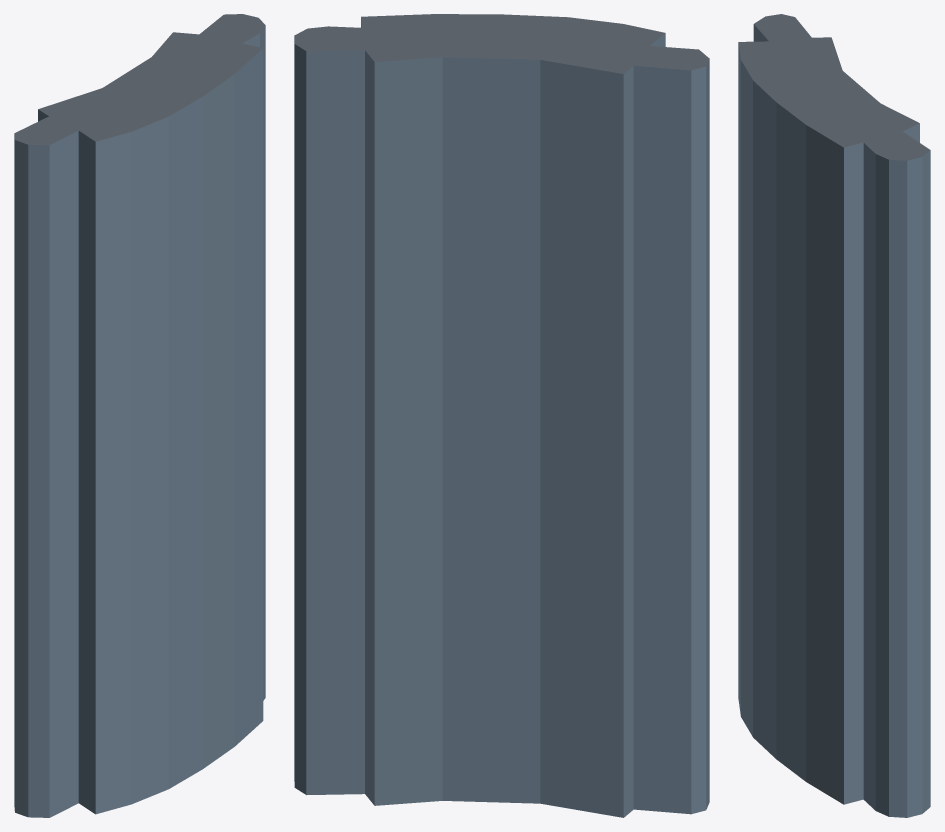
3 views of the same model, side by side, from view 1: azimuth 30°, elevation 25°; view 2: azimuth 150°, elevation 25°; view 3: azimuth 270°, elevation 25° (orthographic). The views are drawn at different scales.
Parts seen in each view (by area): view 1: HP-w799017742; view 2: HP-w799017742; view 3: HP-w799017742.
Part boxes in pixels (x1,y1,x2,y2): HP-w799017742: [14, 14, 265, 817]; HP-w799017742: [294, 14, 709, 817]; HP-w799017742: [738, 14, 930, 817].
Bounding box in the file's own units: 54.64 × 114 × 30.19.
